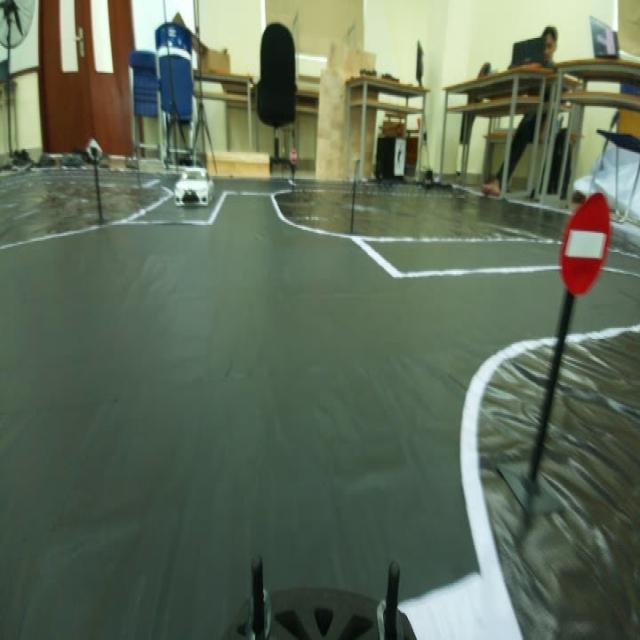car: (168, 158, 216, 218)
no_entry: (548, 184, 616, 309)
